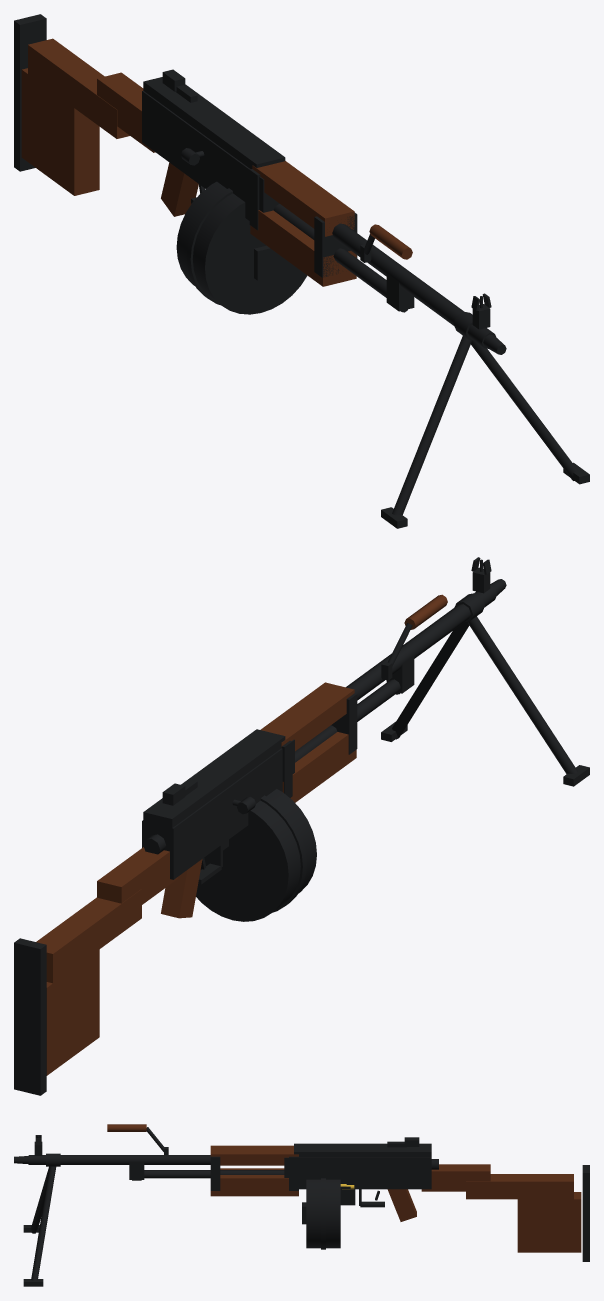
Rendered from rpd-lmg.glb.
3 renders of one model, top to bottom at view 1: azimuth 30°, elevation 25°; view 2: azimuth 150°, elevation 25°; view 3: azimuth 270°, elevation 25°, orthographic. The views are drawn at different scales.
Visible parts, largest first — view 1: Mesh_DrumBody, Mesh_StockLower, Mesh_Receiver, Mesh_StockUpper, Mesh_TopCover, Mesh_HandguardUpper, Mesh_HandguardLower, Mesh_Barrel, Mesh_Buttplate, Mesh_BipodLegR, Mesh_StockNeck, Mesh_BipodLegL (+5 smaller); view 2: Mesh_DrumBody, Mesh_Receiver, Mesh_Buttplate, Mesh_StockLower, Mesh_StockUpper, Mesh_TopCover, Mesh_HandguardUpper, Mesh_StockNeck, Mesh_Barrel, Mesh_HandguardLower, Mesh_BipodLegR, Mesh_BipodLegL (+4 smaller); view 3: Mesh_Receiver, Mesh_StockLower, Mesh_StockUpper, Mesh_DrumBody, Mesh_TopCover, Mesh_HandguardLower, Mesh_Barrel, Mesh_HandguardUpper, Mesh_StockNeck, Mesh_GasTube, Mesh_BipodLegL, Mesh_Buttplate (+8 smaller).
Boxes of the visible parts, x1,y1,x2,y2 form: Mesh_DrumBody: [176, 181, 307, 314]; Mesh_StockLower: [21, 68, 99, 195]; Mesh_Receiver: [142, 90, 279, 220]; Mesh_StockUpper: [28, 38, 129, 138]; Mesh_TopCover: [143, 77, 285, 168]; Mesh_HandguardUpper: [252, 161, 354, 236]; Mesh_HandguardLower: [250, 210, 356, 286]; Mesh_Barrel: [332, 223, 496, 348]; Mesh_Buttplate: [14, 14, 46, 171]; Mesh_BipodLegR: [392, 336, 472, 515]; Mesh_StockNeck: [97, 72, 155, 152]; Mesh_BipodLegL: [471, 340, 577, 480]; Mesh_DrumBody: [196, 789, 316, 921]; Mesh_Receiver: [142, 739, 294, 879]; Mesh_Buttplate: [14, 938, 46, 1095]; Mesh_StockLower: [46, 949, 99, 1075]; Mesh_StockUpper: [36, 889, 141, 983]; Mesh_TopCover: [143, 729, 285, 843]; Mesh_HandguardUpper: [260, 682, 354, 751]; Mesh_StockNeck: [97, 847, 177, 904]; Mesh_Barrel: [346, 585, 497, 700]; Mesh_HandguardLower: [282, 732, 356, 802]; Mesh_BipodLegR: [468, 616, 577, 774]; Mesh_BipodLegL: [392, 621, 469, 739]; Mesh_Receiver: [284, 1157, 431, 1189]; Mesh_StockLower: [517, 1192, 581, 1252]; Mesh_StockUpper: [466, 1174, 573, 1199]; Mesh_DrumBody: [306, 1179, 340, 1248]; Mesh_TopCover: [294, 1143, 431, 1157]; Mesh_HandguardLower: [210, 1168, 298, 1196]; Mesh_Barrel: [28, 1155, 210, 1164]; Mesh_HandguardUpper: [210, 1145, 298, 1165]; Mesh_StockNeck: [421, 1164, 490, 1191]; Mesh_GasTube: [144, 1170, 284, 1178]; Mesh_BipodLegL: [31, 1166, 56, 1280]; Mesh_Buttplate: [582, 1165, 589, 1261].
Bounding box in the file's own units: 0.275 × 0.2916 × 1.17.
